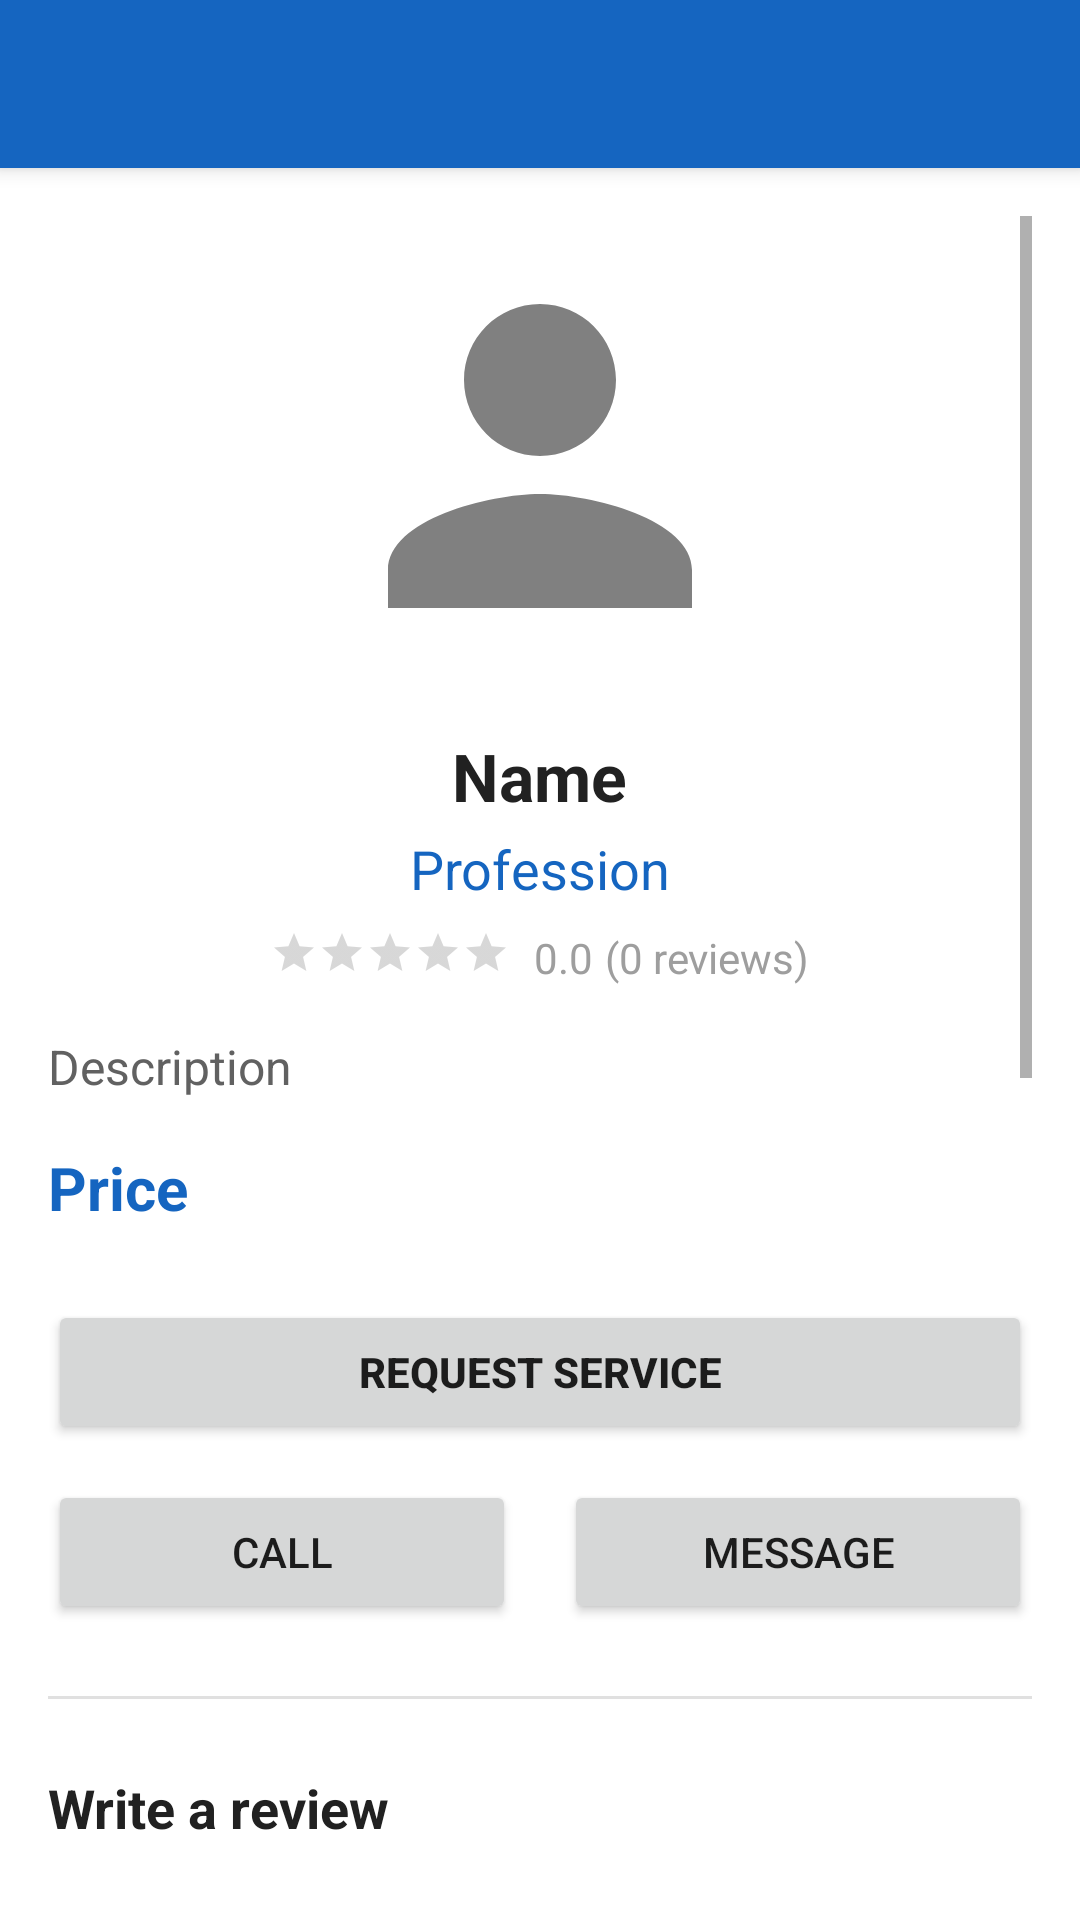

Named icons in this screenshot (1080*1920) and their bounding boxes, bbox(x1, y1, x2, y2):
person: bbox(388, 304, 692, 608)
